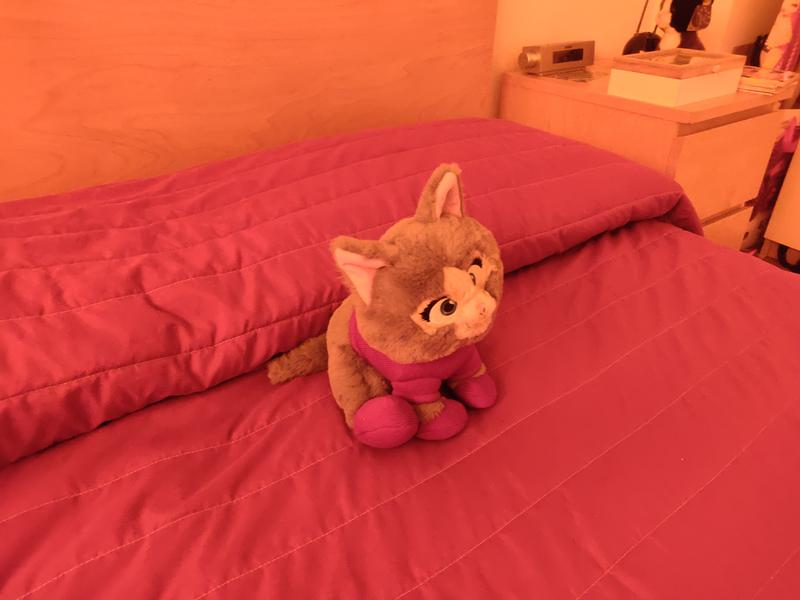kitten: (269, 142, 507, 468)
